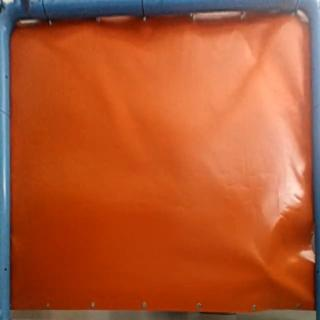Hit-hRxx: (259, 266, 275, 280)
